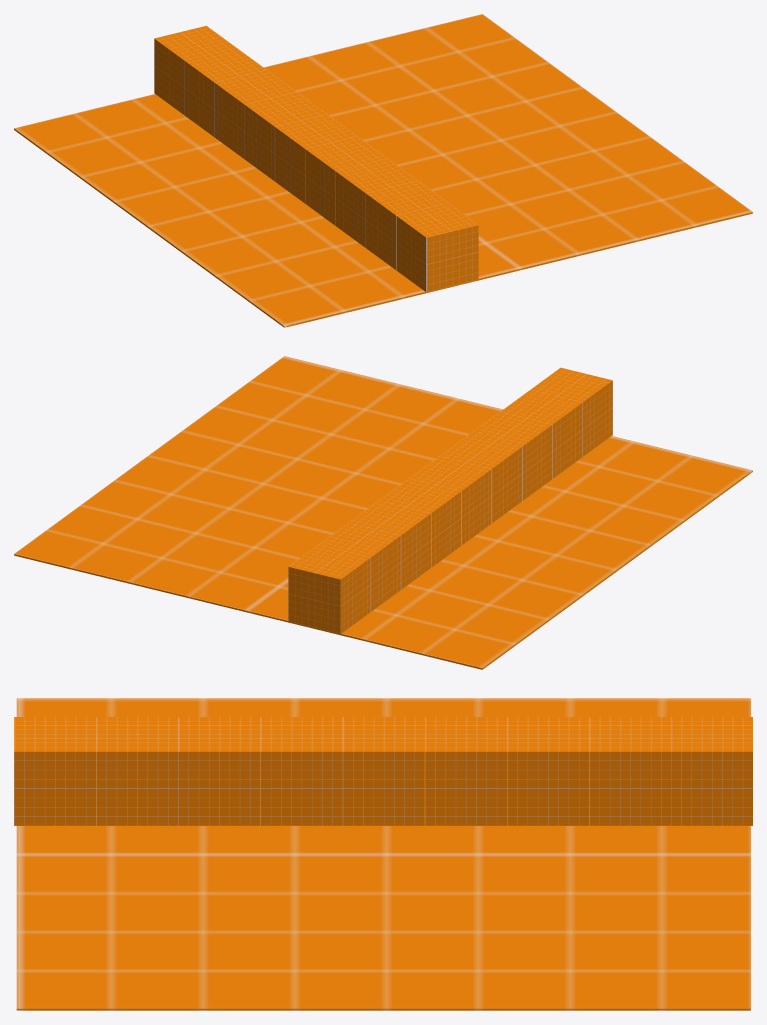
The picture shows the model from 3 angles, top to bottom: view 1: azimuth 30°, elevation 25°; view 2: azimuth 150°, elevation 25°; view 3: azimuth 270°, elevation 25°; orthographic projection. The views are drawn at different scales.
Visible parts, largest first — view 1: Cube, Cube.009, Cube.001, Cube.004, Cube.006, Cube.003, Cube.002, Cube.008, Cube.007, Cube.005; view 2: Cube, Cube.005, Cube.003, Cube.007, Cube.009, Cube.006, Cube.001, Cube.008, Cube.002, Cube.004; view 3: Cube, Cube.001, Cube.006, Cube.007, Cube.008, Cube.004, Cube.002, Cube.003, Cube.005, Cube.009.
Part boxes in pixels (box(x1,y1,x2,y2)): Cube: box(14, 14, 752, 327); Cube.009: box(396, 203, 478, 292); Cube.001: box(275, 114, 357, 203); Cube.004: box(184, 48, 266, 137); Cube.006: box(305, 136, 387, 225); Cube.003: box(214, 70, 296, 158); Cube.002: box(244, 92, 326, 181); Cube.008: box(366, 181, 448, 269); Cube.007: box(335, 158, 417, 247); Cube.005: box(154, 25, 236, 114); Cube: box(14, 356, 752, 669); Cube.005: box(288, 544, 370, 634); Cube.003: box(349, 500, 431, 589); Cube.007: box(470, 412, 552, 500); Cube.009: box(531, 367, 612, 456); Cube.006: box(440, 434, 522, 523); Cube.001: box(410, 456, 491, 545); Cube.008: box(500, 389, 582, 478); Cube.002: box(379, 478, 461, 567); Cube.004: box(319, 523, 400, 611); Cube: box(16, 698, 750, 1010); Cube.001: box(342, 717, 424, 825); Cube.006: box(260, 717, 342, 825); Cube.007: box(178, 717, 260, 825); Cube.008: box(96, 717, 178, 825); Cube.004: box(589, 717, 671, 825); Cube.002: box(425, 717, 506, 825); Cube.003: box(507, 717, 588, 825); Cube.005: box(671, 717, 752, 825); Cube.009: box(14, 717, 95, 825).
Size of the model in its own units: 135 by 15.53 by 136.
2 materials, 2 textured.
